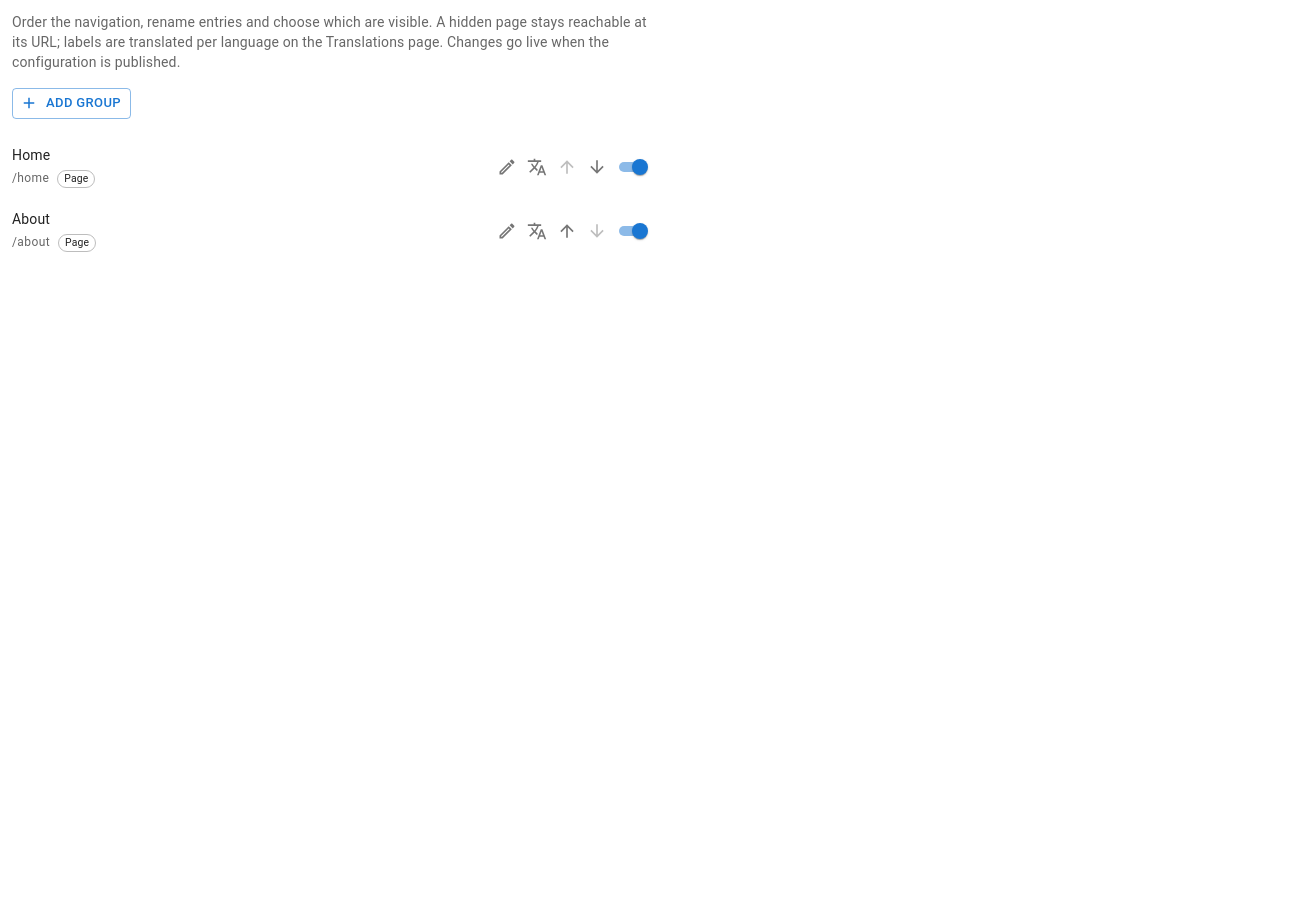
Test: MenuEditor › renames an entry inline and saves the custom label
expect the text "About" is shown: met, box [12,209,50,229]
Click the button named "rename" in the row of "/about" at (507, 231), box [492,216,522,246]
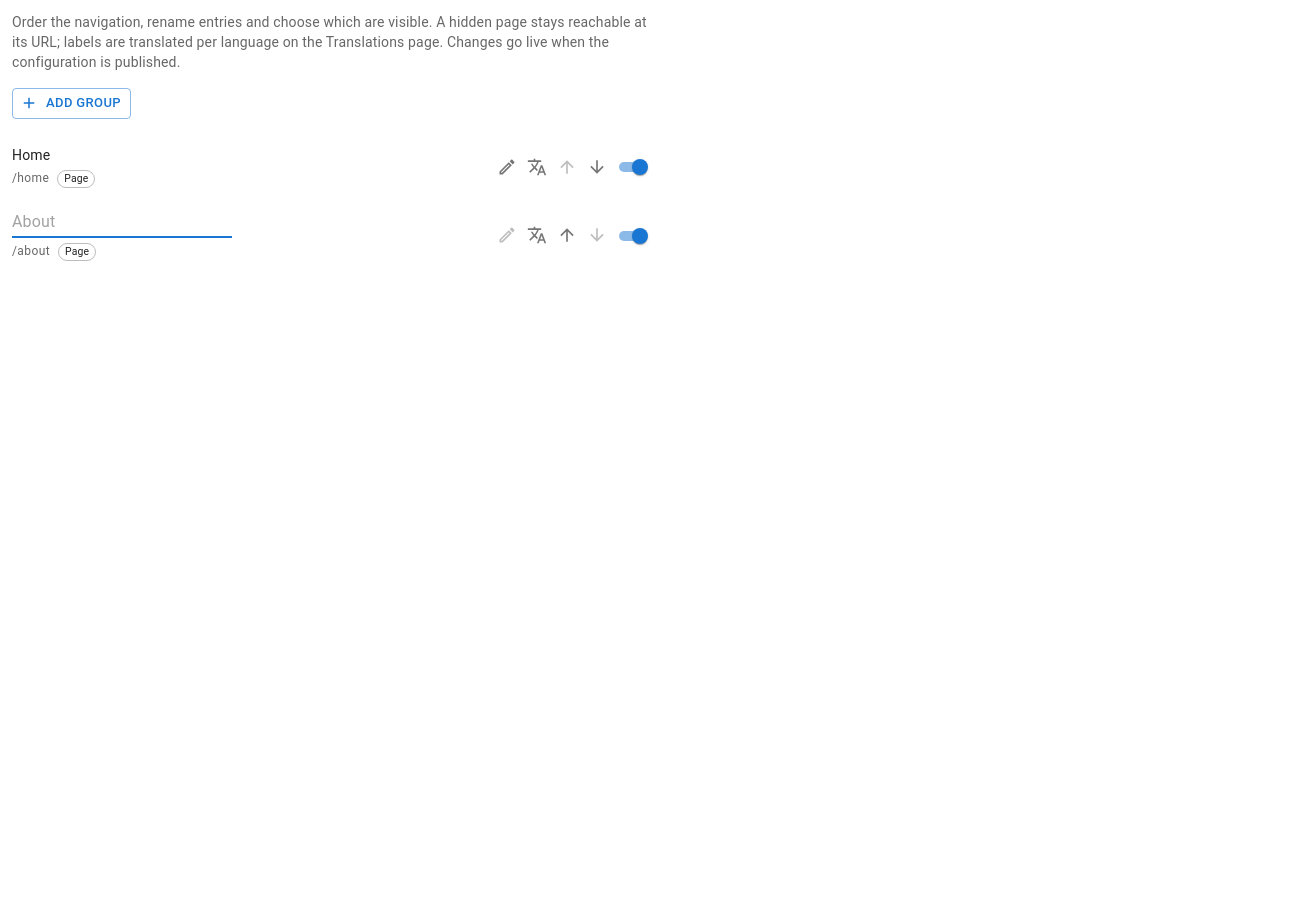
Type "Who we are" into the field named "rename" at (122, 223), box [12,209,232,238]
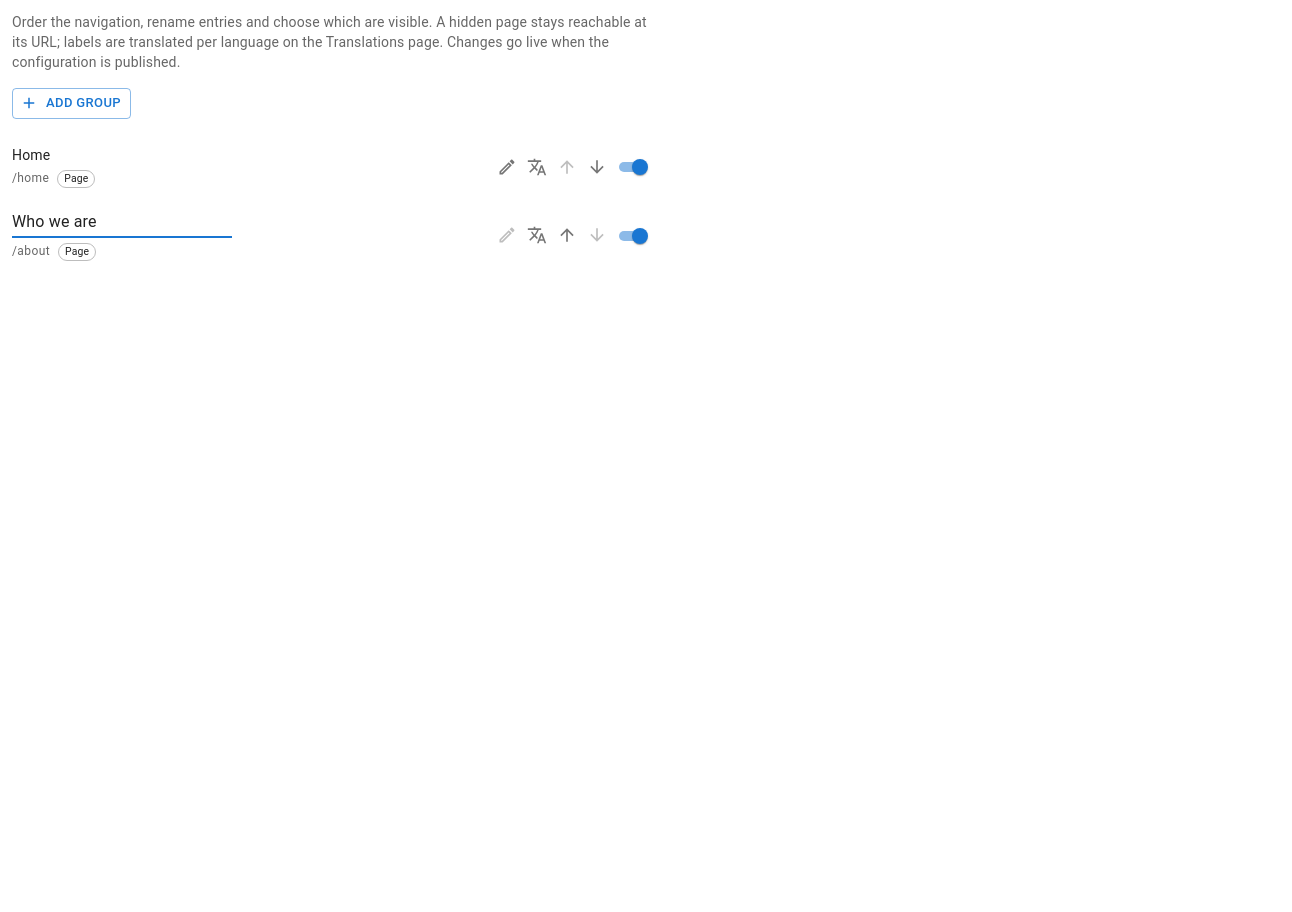
Press Enter in the field named "rename", box [12,209,232,238]
Wait 850 ms
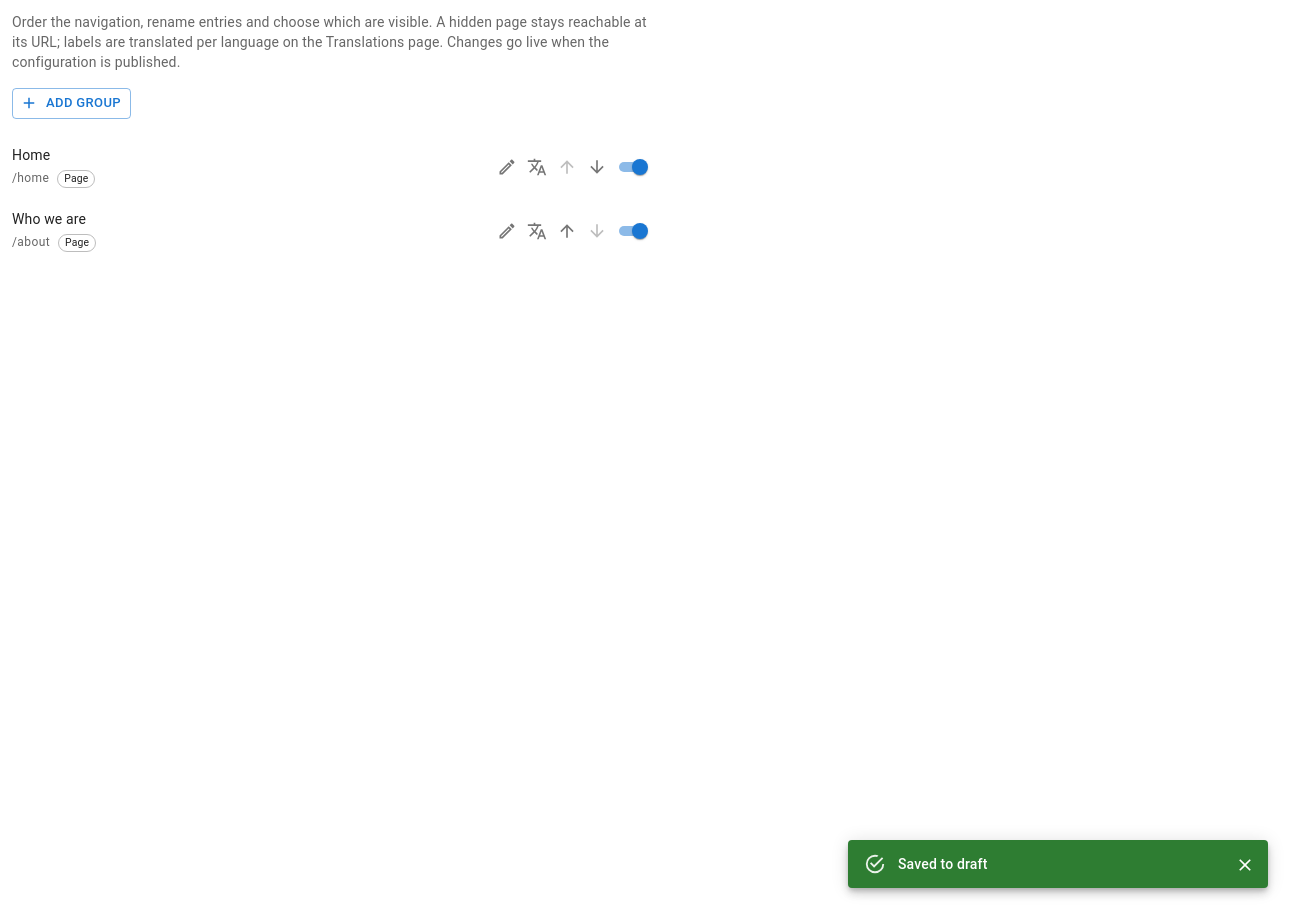
expect the text "Who we are" is shown: met, box [12,209,86,229]
